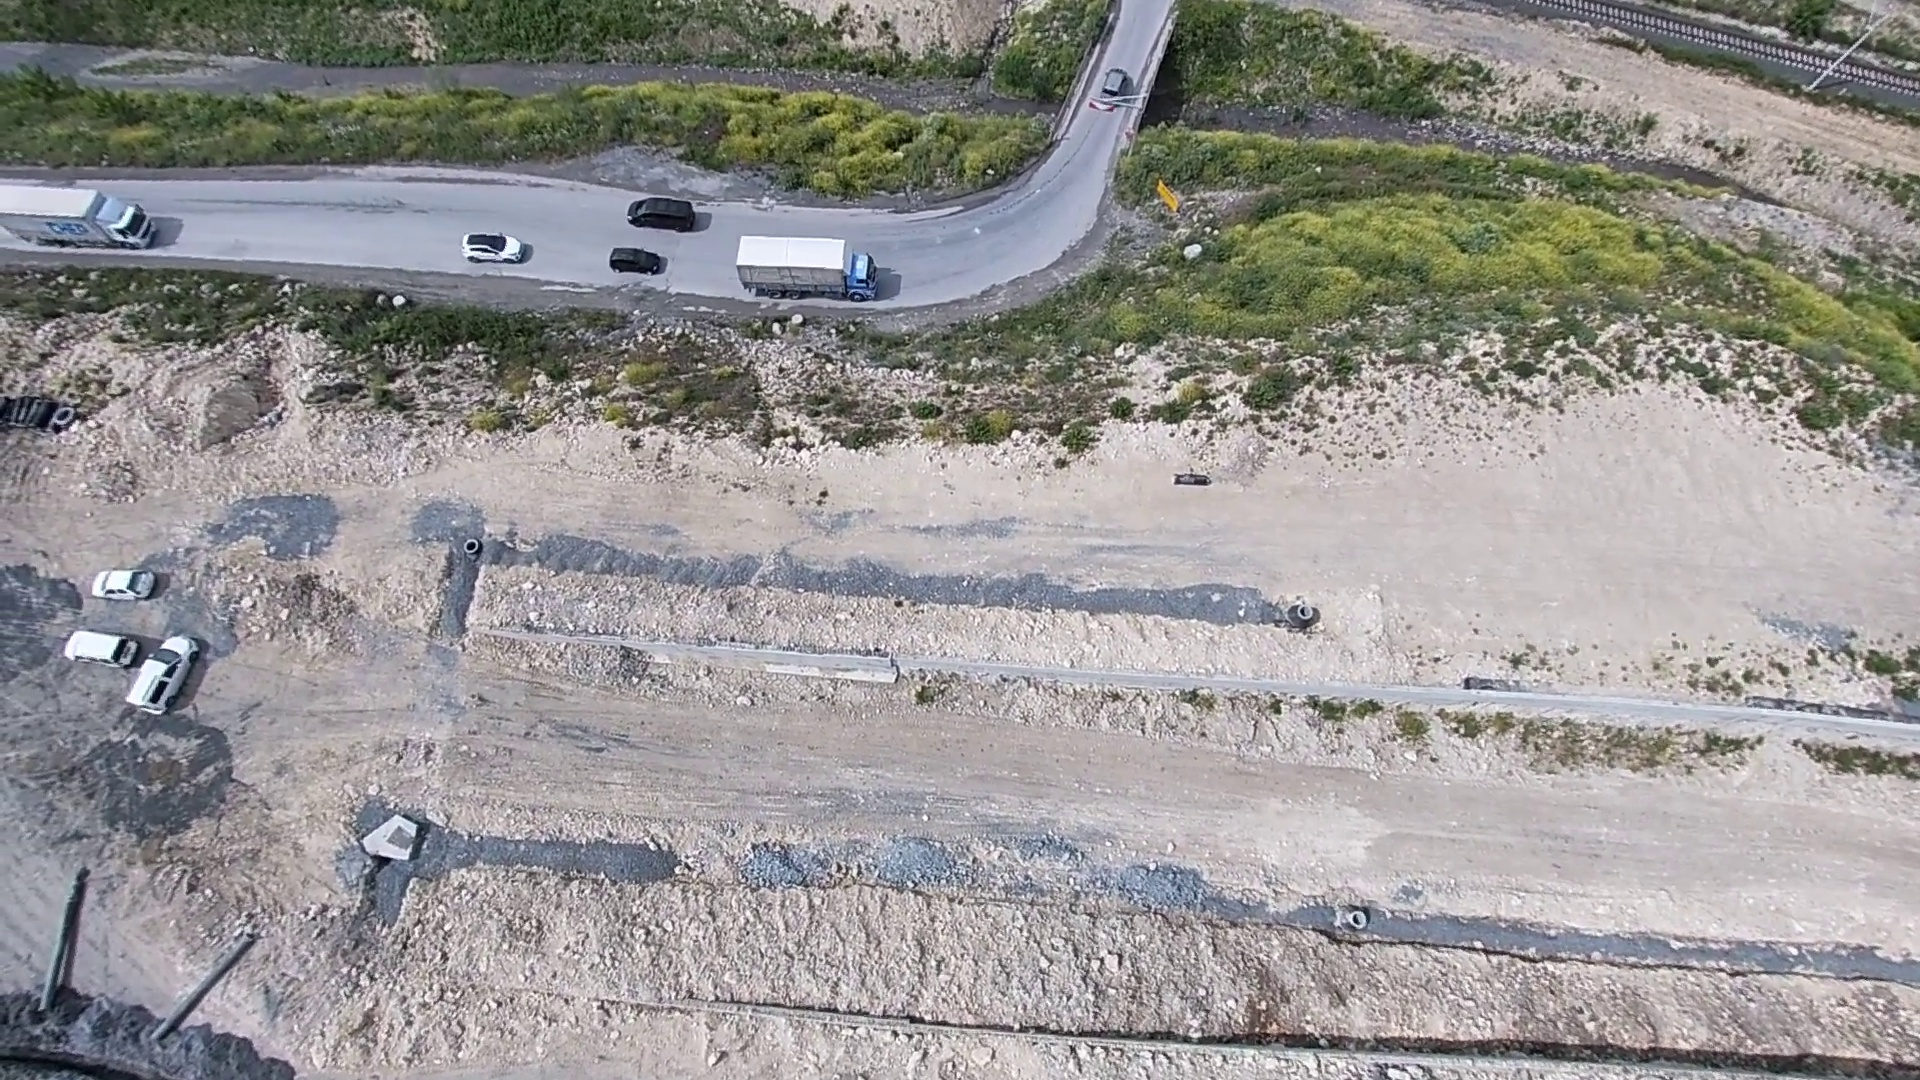arac: (1, 182, 161, 255), (729, 231, 884, 301), (119, 629, 203, 717), (622, 193, 705, 231), (66, 622, 135, 669), (90, 568, 160, 605), (454, 228, 529, 262), (607, 245, 669, 278), (1097, 61, 1138, 102)
